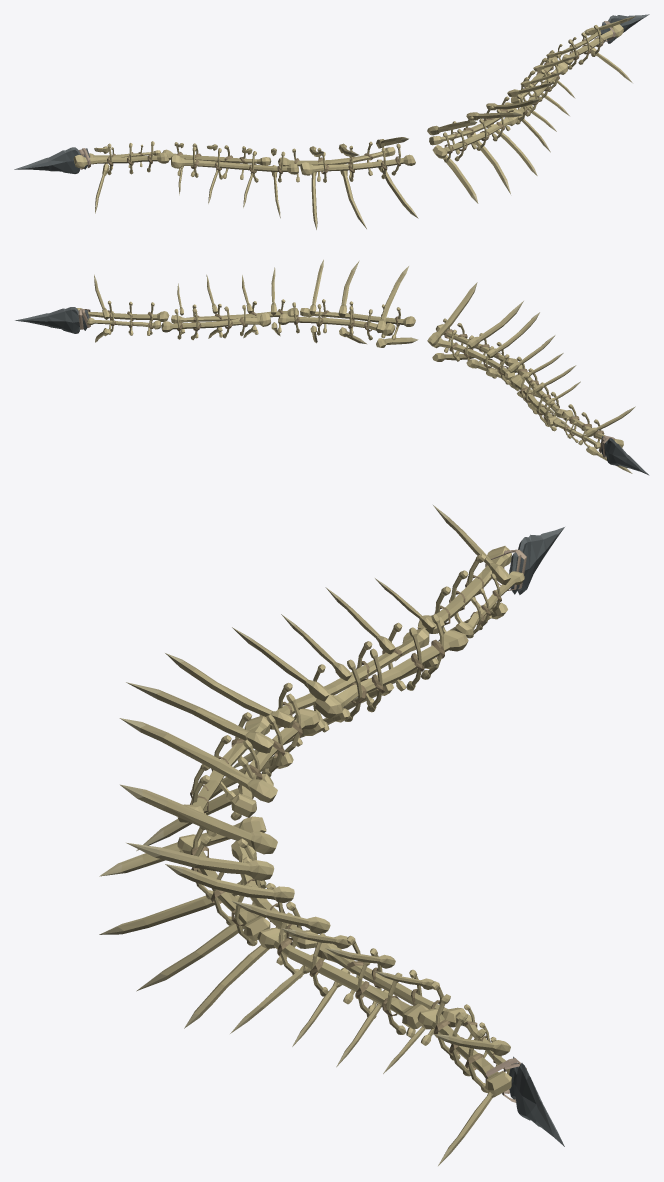
File: largeCrossbowTribeTip.glb
3 views of the same model, one above another, from view 1: azimuth 30°, elevation 25°; view 2: azimuth 150°, elevation 25°; view 3: azimuth 270°, elevation 25° (orthographic). The views are drawn at different scales.
Visible parts, largest first — view 1: largeCrossbowTribeTip; view 2: largeCrossbowTribeTip; view 3: largeCrossbowTribeTip.
Boxes of the visible parts, x1,y1,x2,y2 form: largeCrossbowTribeTip: [14, 14, 649, 229]; largeCrossbowTribeTip: [15, 259, 649, 475]; largeCrossbowTribeTip: [99, 505, 564, 1165].
Size of the model in its own units: 1.45 by 0.1855 by 0.4603.
